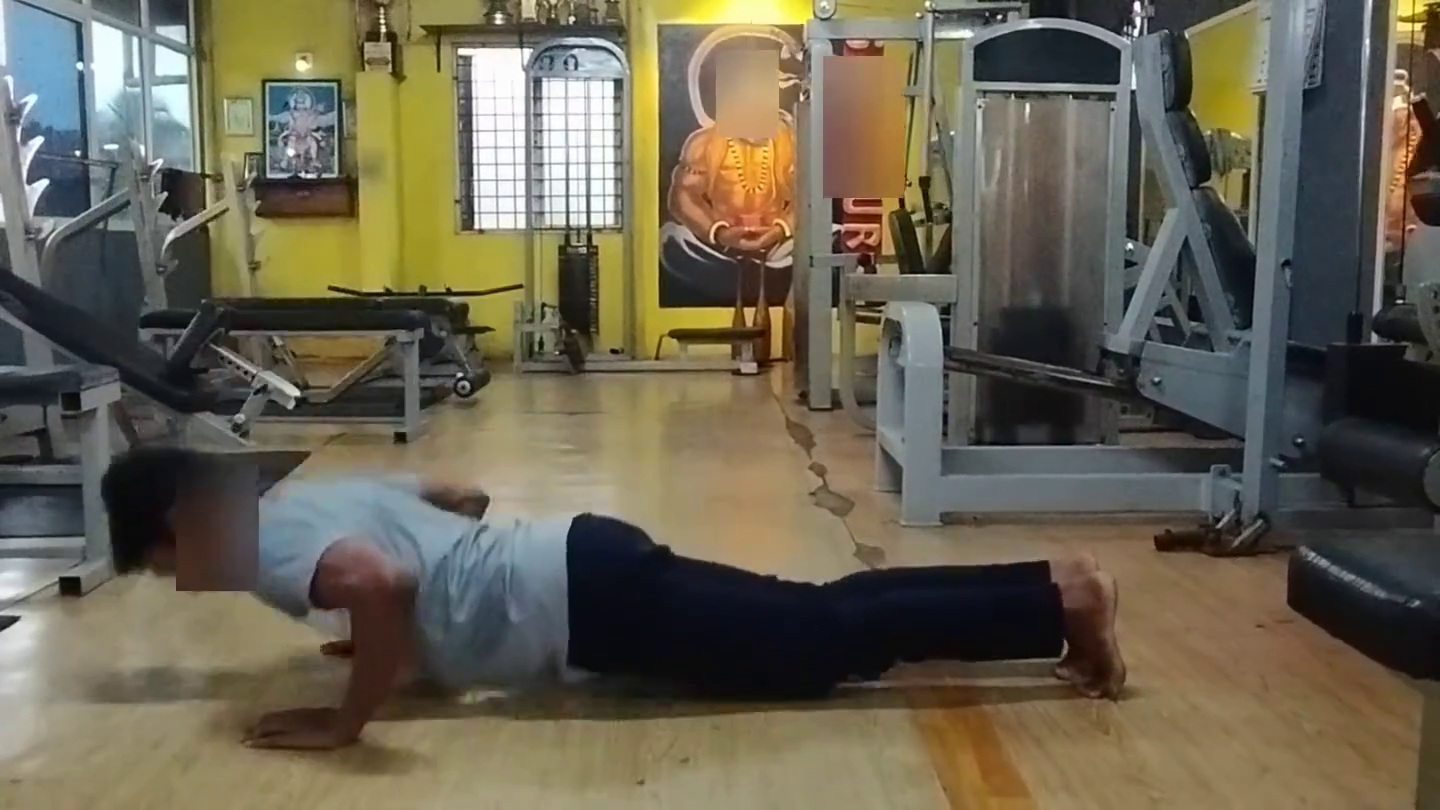push_up_incorrect: (74, 406, 1200, 810)
